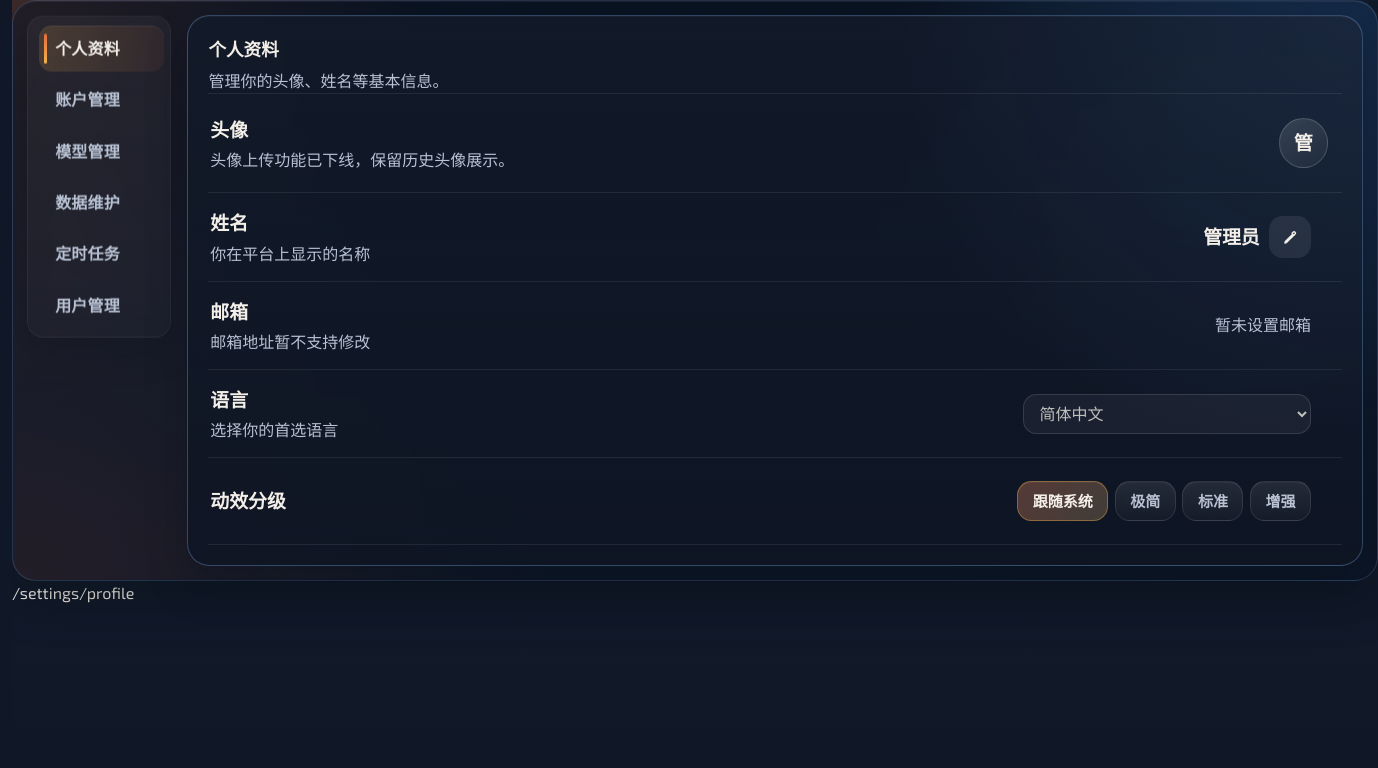
Test: SettingsPage model management view switch › supports filtering models by enabled status
Click the button "模型管理".
click(101, 151)  # box [39, 128, 164, 174]
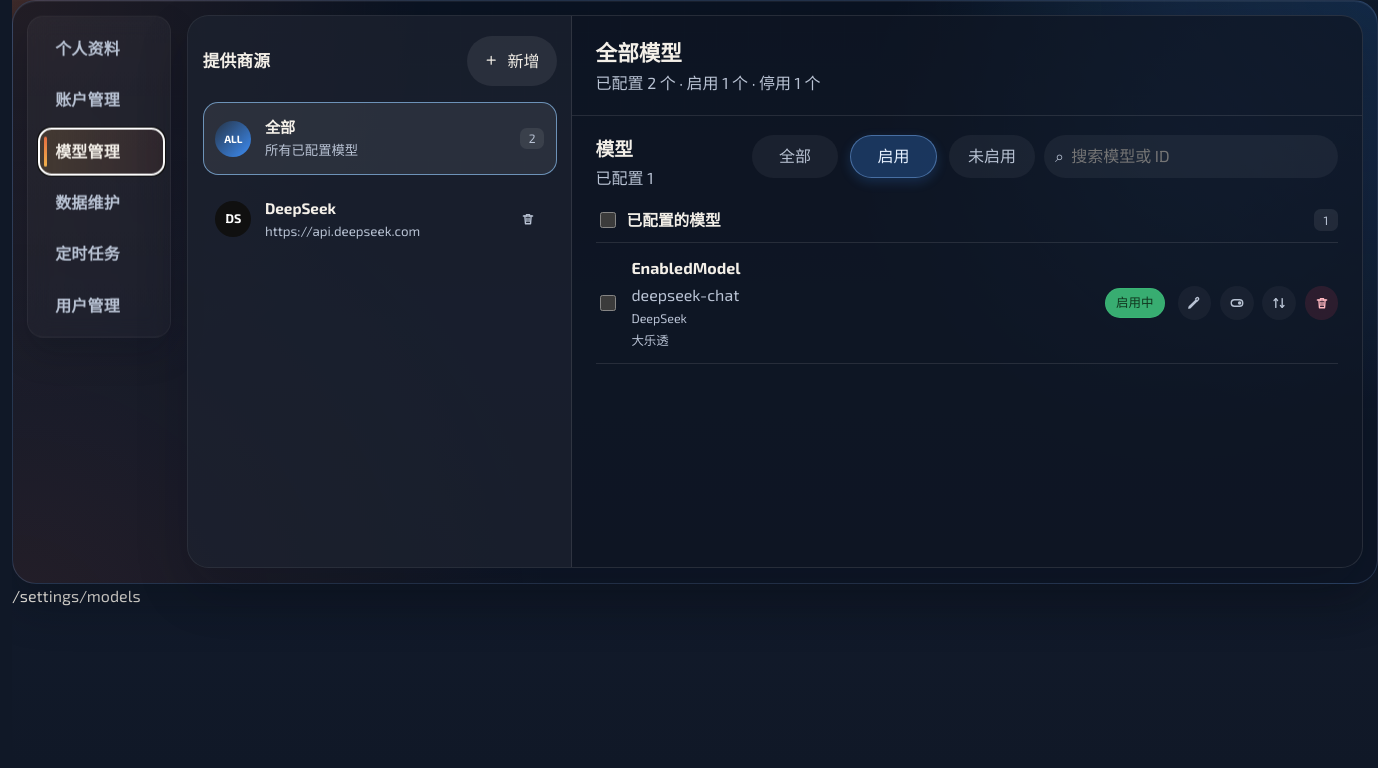
Expected: the text "InactiveModel" is not shown
Expected: the heading "全部模型" is shown, [596, 38, 682, 64]
Expected: the text "EnabledModel" is shown, [631, 258, 741, 277]
Click the button "未启用".
click(992, 156)  # box [949, 135, 1035, 178]
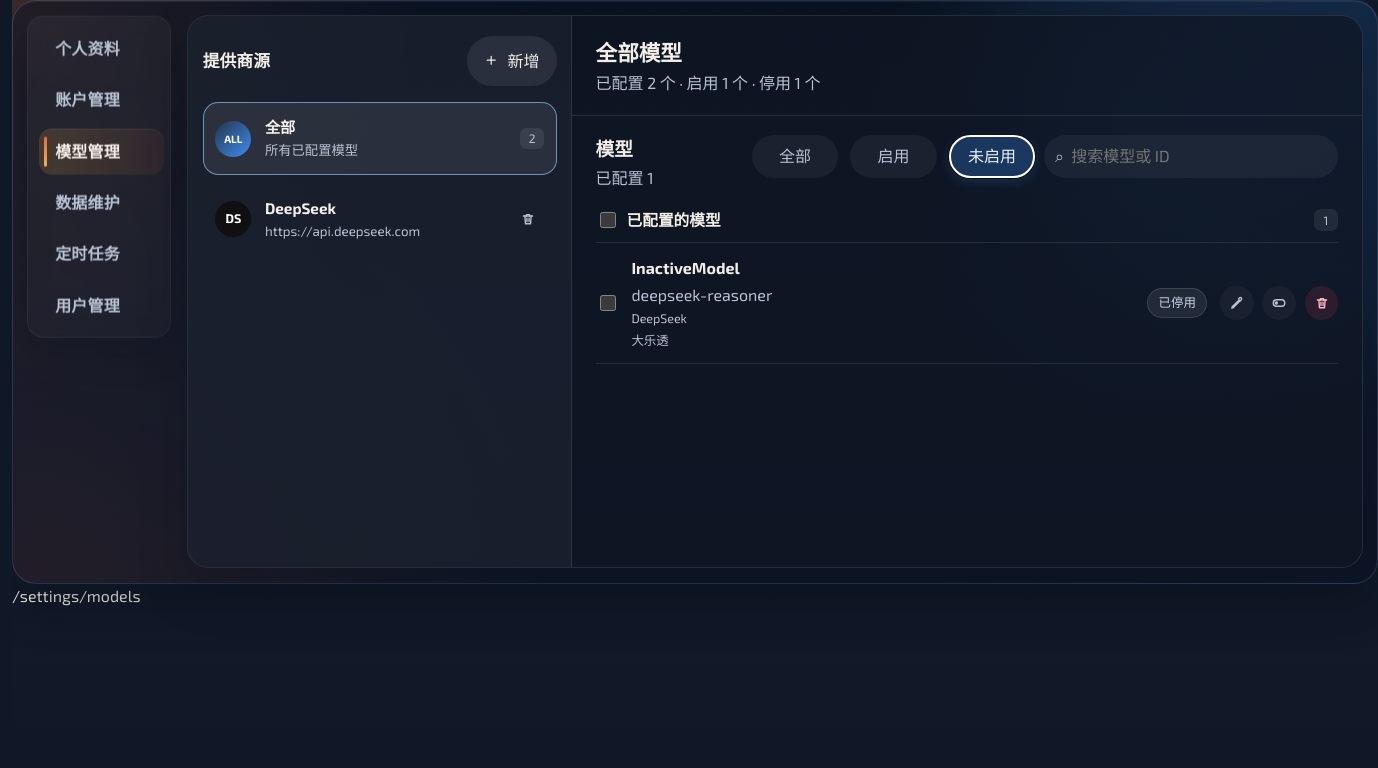
Expected: the text "EnabledModel" is gone
Expected: the text "InactiveModel" is shown, [631, 258, 740, 277]
Click the button "全部".
click(795, 156)  # box [752, 135, 838, 178]
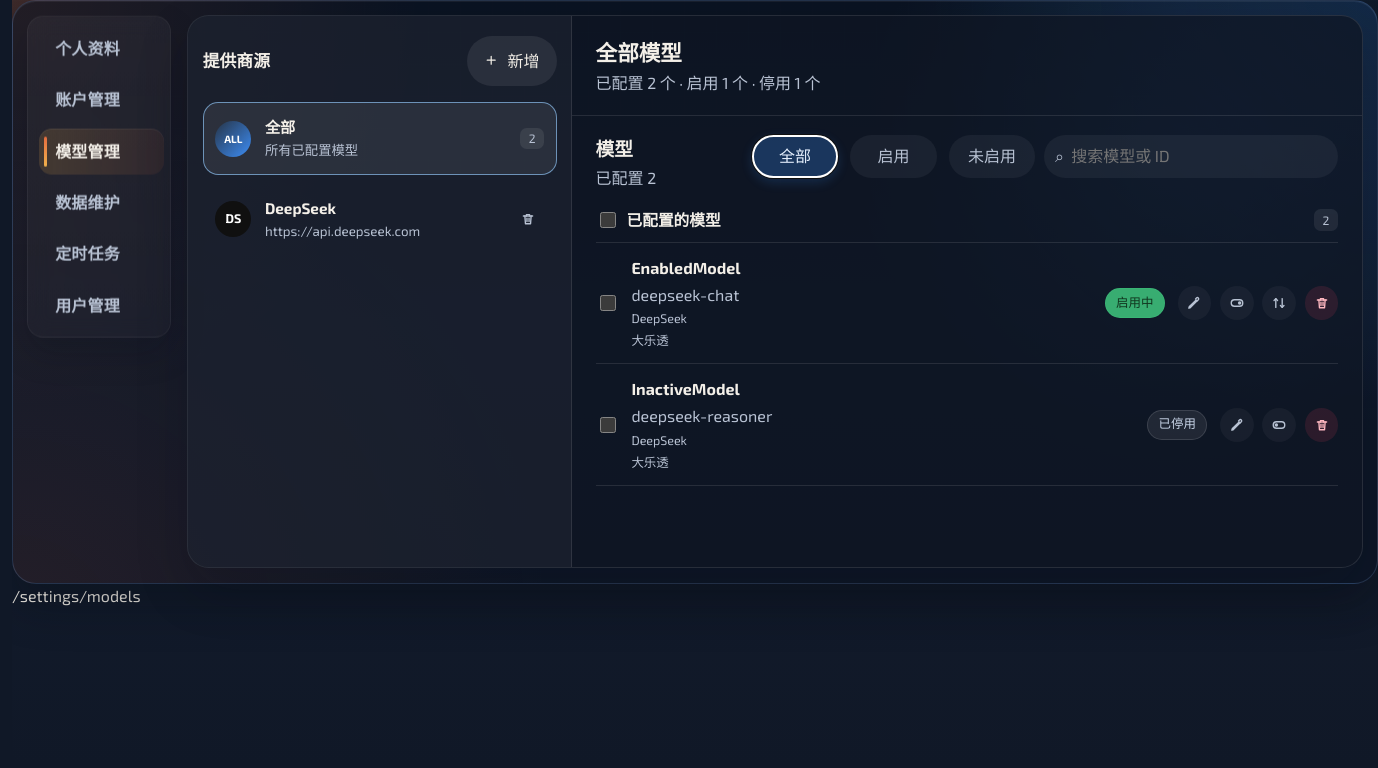
Expected: the text "InactiveModel" is shown, [631, 379, 740, 398]
Expected: the text "EnabledModel" is shown, [631, 258, 741, 277]
Click the button "启用".
click(894, 156)  # box [850, 135, 937, 178]
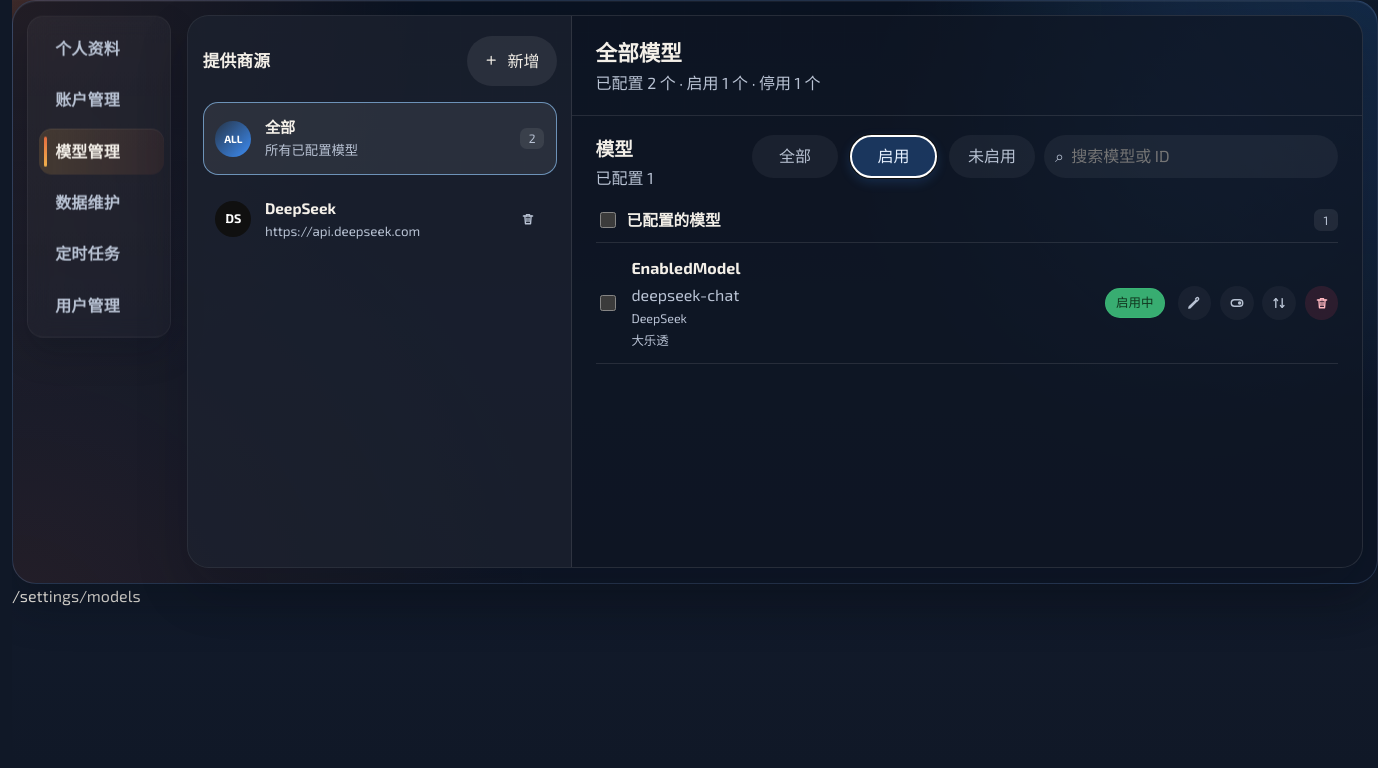
Expected: the text "EnabledModel" is shown, [631, 258, 741, 277]
Expected: the text "InactiveModel" is gone
